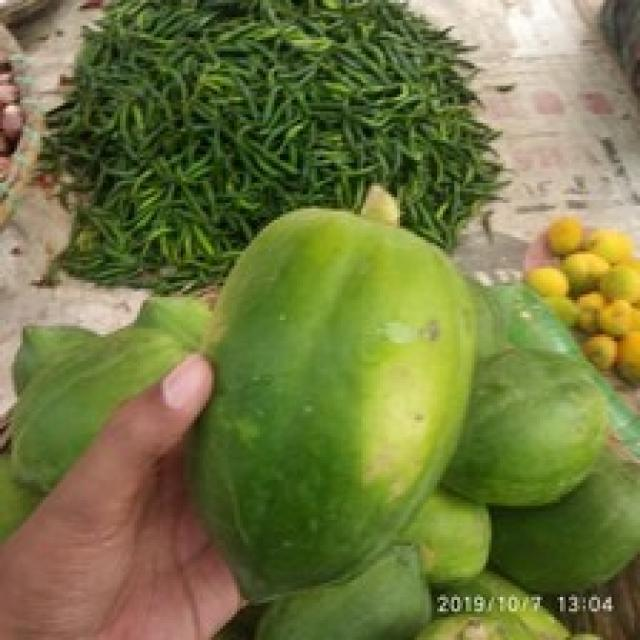Pepaya unrippen: (187, 194, 477, 603)
